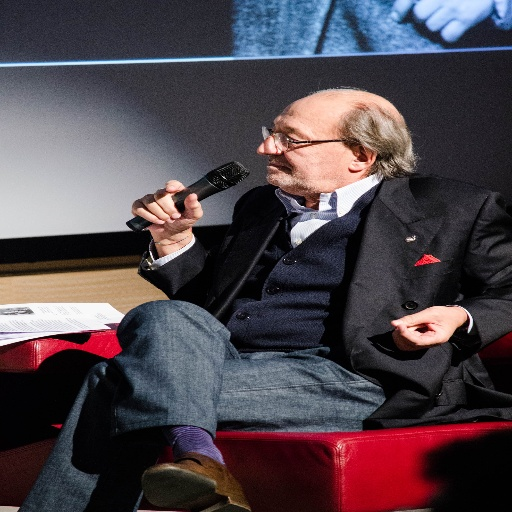hand: (128, 174, 214, 265), (389, 304, 465, 352)
